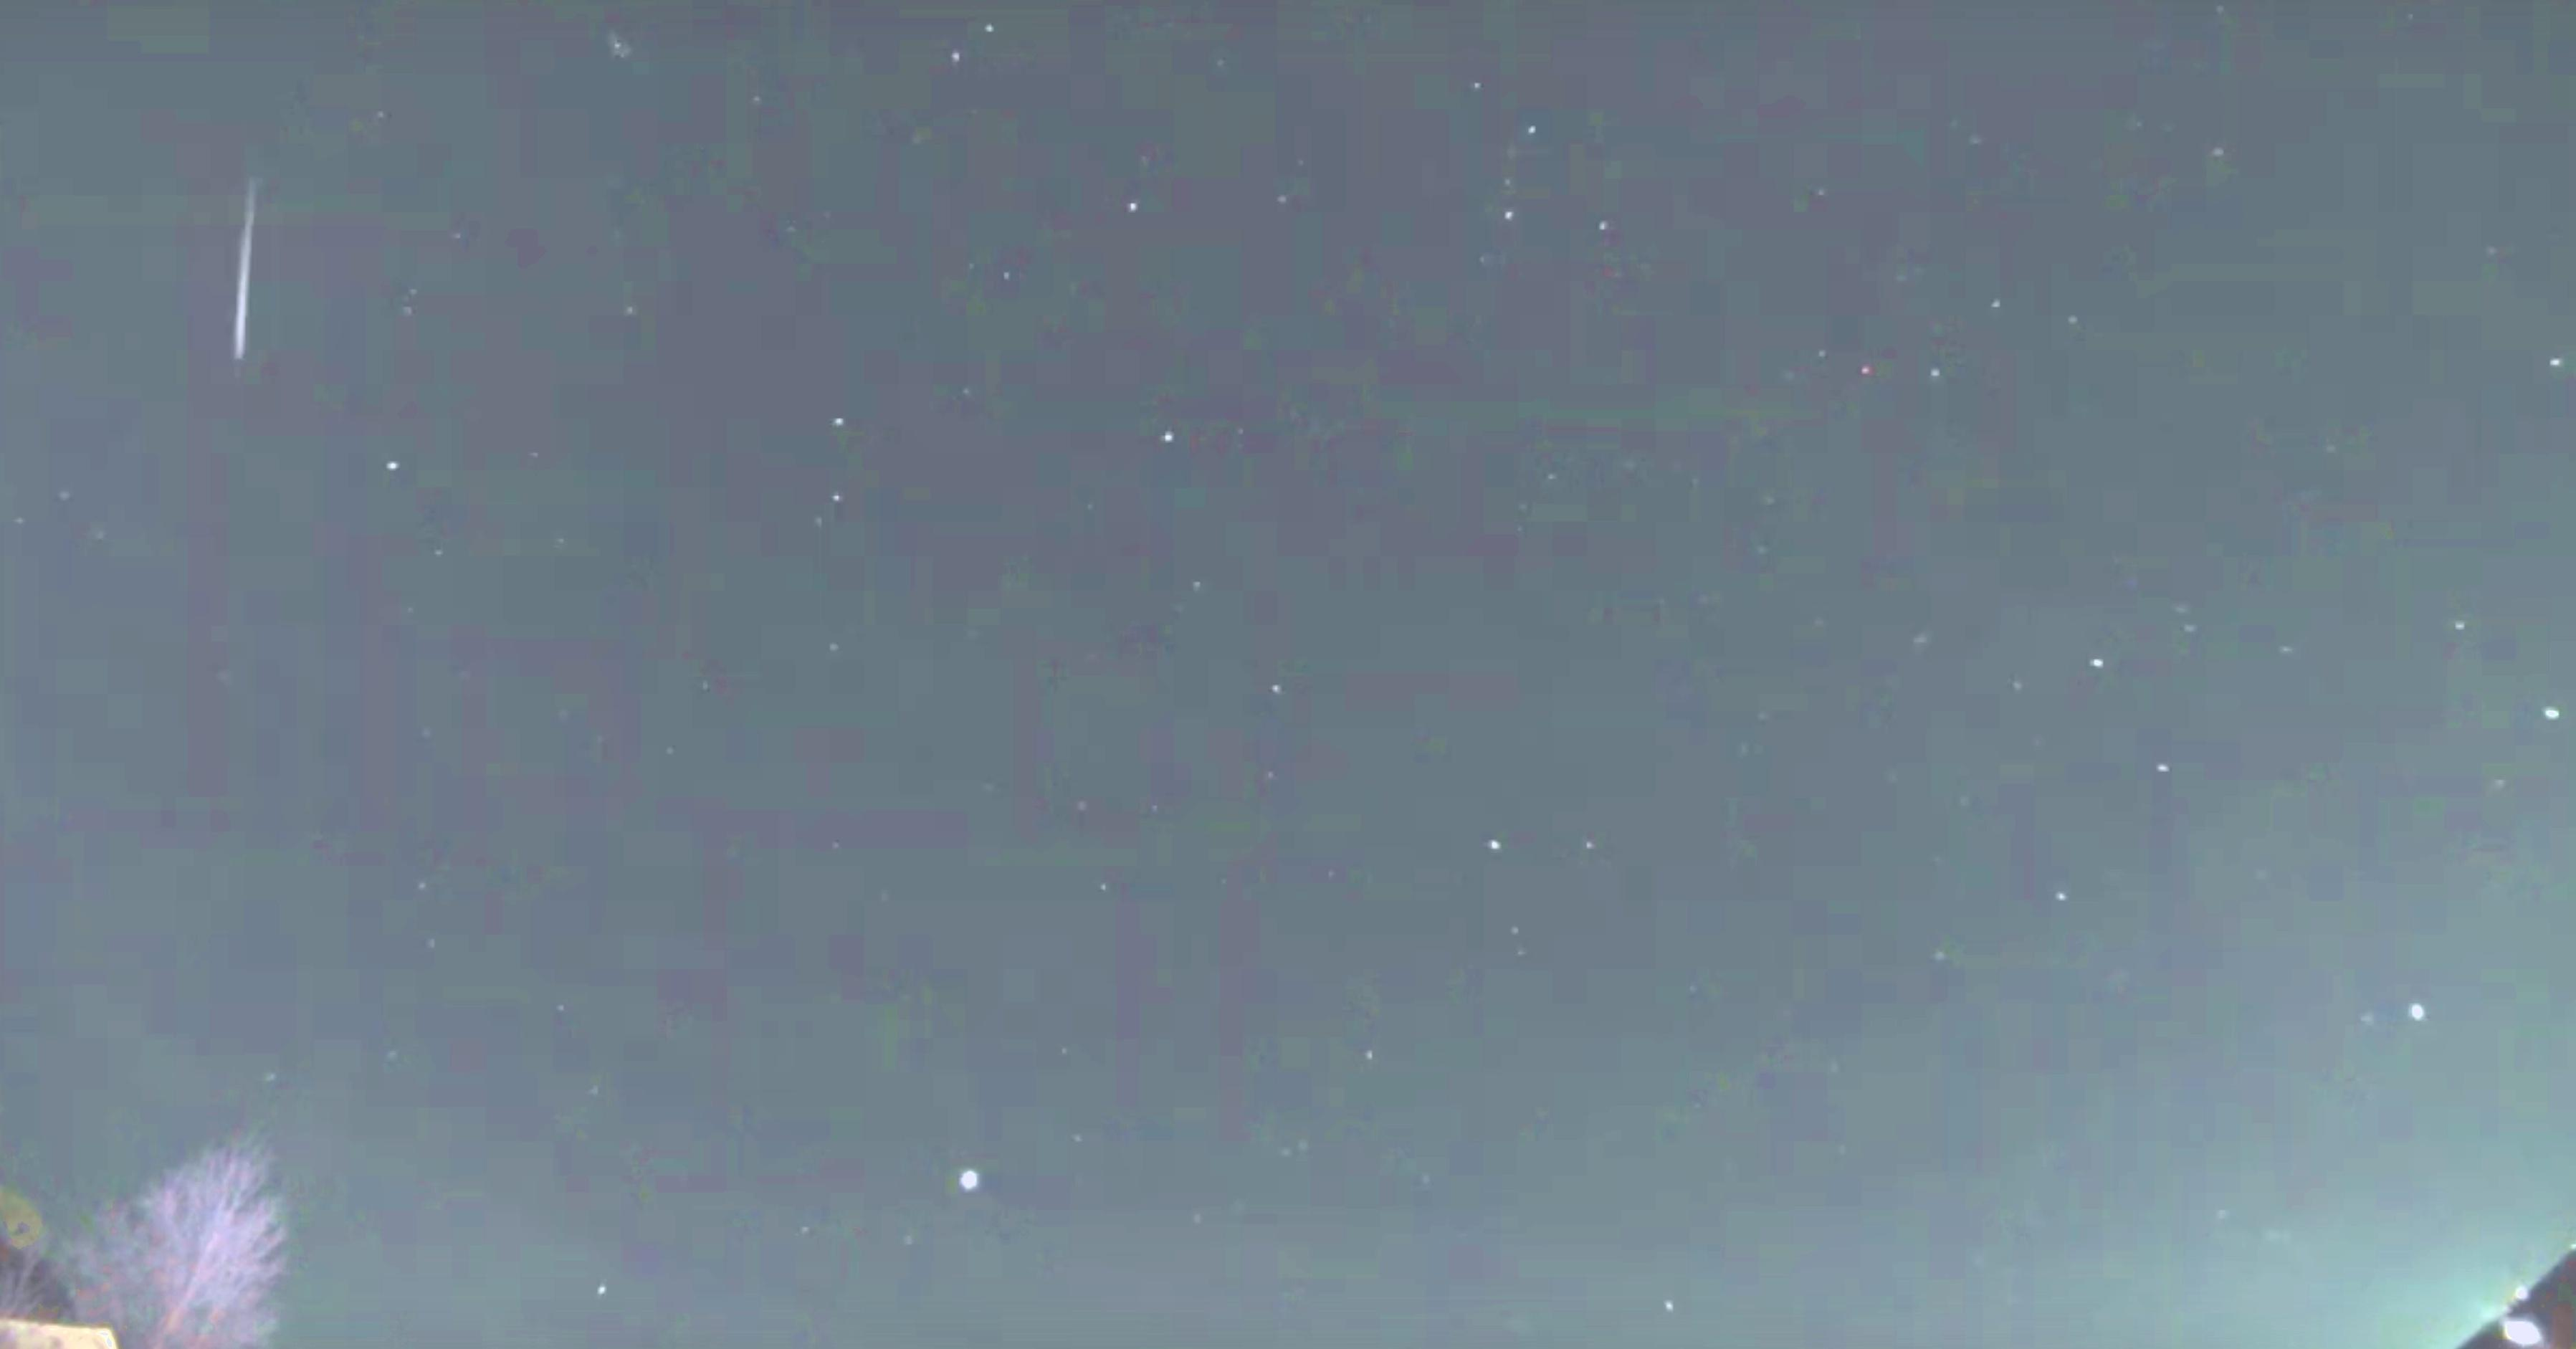Plane: (588, 31, 654, 56)
meteorite: (181, 152, 310, 366)
